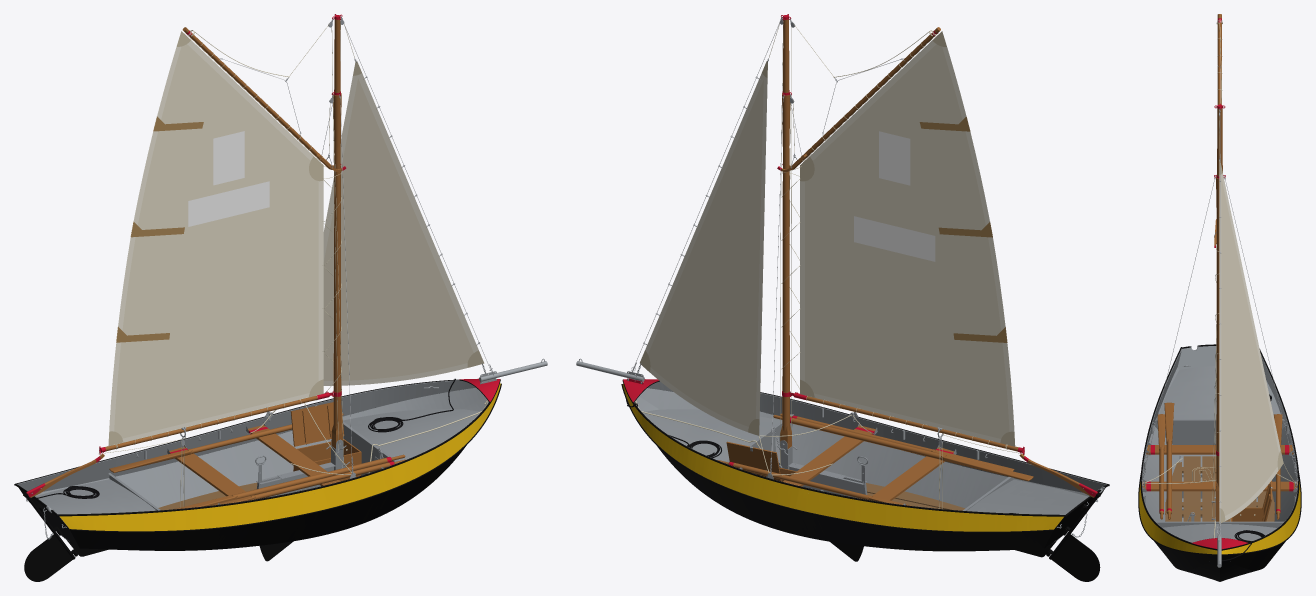
The model's file is lelievlet.glb.
3 renders of one model, left to right at view 1: azimuth 30°, elevation 25°; view 2: azimuth 150°, elevation 25°; view 3: azimuth 270°, elevation 25°, orthographic. The views are drawn at different scales.
Visible parts, largest first — view 1: grootzeil, fok, boeisel_sb, kim_sb, kim_bb, boeisel_bb, voordek, mast, achterdek, grootzeil_zeilnummer, grootzeil_achterlijk, fok_voorlijk (+20 smaller); view 2: grootzeil, fok, boeisel_bb, kim_bb, kim_sb, boeisel_sb, mast, voordek, achterdek, grootzeil_zeilnummer, grootzeil_achterlijk, wrikriem (+19 smaller); view 3: fok, buikdenning, achterdek, kim_sb, kim_bb, mast, voordek, boeisel_sb, boeisel_bb, achterschot, fok_voorlijk, doft_voor (+22 smaller).
Part boxes in pixels (x1,y1,x2,y2): grootzeil: (108, 38, 318, 445); fok: (323, 78, 473, 380); boeisel_sb: (59, 383, 500, 531); kim_sb: (70, 445, 466, 550); kim_bb: (24, 387, 483, 507); boeisel_bb: (17, 380, 475, 491); voordek: (343, 409, 479, 461); mast: (331, 19, 343, 448); achterdek: (35, 479, 156, 521); grootzeil_zeilnummer: (188, 181, 269, 226); grootzeil_achterlijk: (109, 46, 181, 433); fok_voorlijk: (358, 73, 478, 352); grootzeil: (805, 36, 1015, 446); fok: (648, 64, 767, 435); boeisel_bb: (622, 383, 1063, 531); kim_bb: (657, 446, 1052, 551); kim_sb: (639, 388, 1089, 508); boeisel_sb: (648, 381, 1105, 492); mast: (780, 19, 791, 448); voordek: (642, 409, 781, 461); achterdek: (967, 479, 1088, 514); grootzeil_zeilnummer: (854, 216, 935, 261); grootzeil_achterlijk: (942, 46, 1014, 433); wrikriem: (773, 415, 1033, 481); fok: (1219, 160, 1278, 523); buikdenning: (1165, 456, 1274, 521); achterdek: (1159, 366, 1280, 418); kim_sb: (1142, 367, 1217, 570); kim_bb: (1221, 372, 1297, 570); mast: (1216, 108, 1222, 521); voordek: (1162, 524, 1276, 542); boeisel_sb: (1139, 349, 1217, 554); boeisel_bb: (1221, 357, 1300, 554); achterschot: (1154, 419, 1285, 444); fok_voorlijk: (1219, 171, 1221, 510); doft_voor: (1142, 481, 1297, 491).
Bounding box in the file's own units: 6.31 × 6.39 × 1.86.
